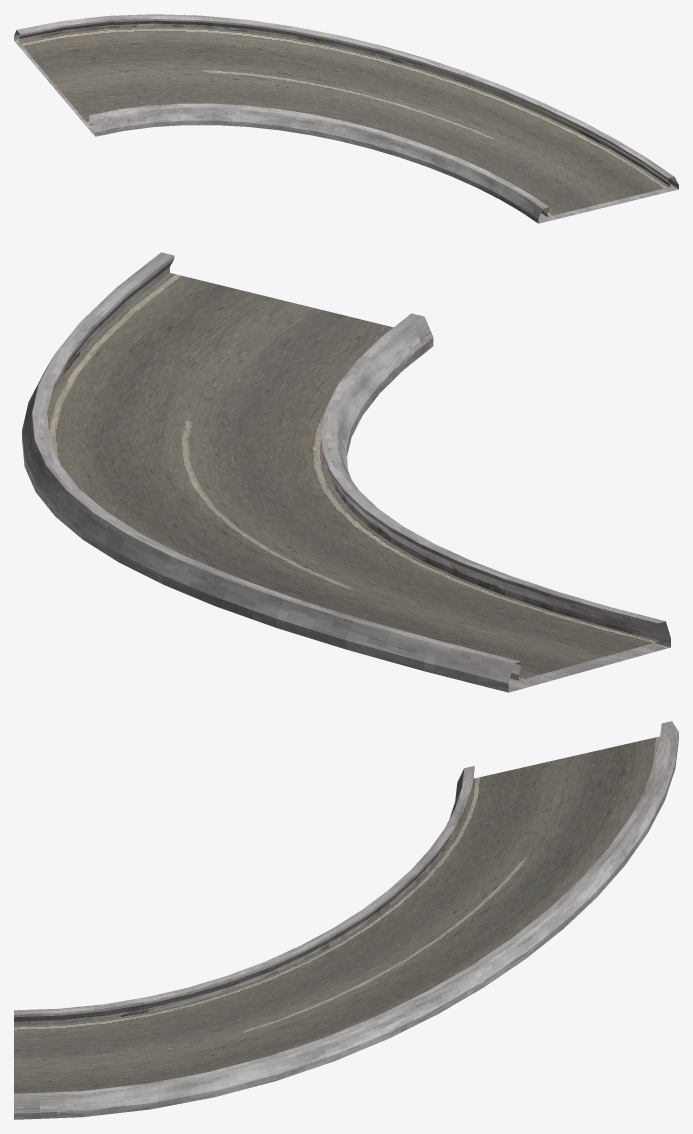
Rendered from turn-left3x3.glb.
3 views of the same model, one above another, from view 1: azimuth 30°, elevation 25°; view 2: azimuth 150°, elevation 25°; view 3: azimuth 270°, elevation 25° (orthographic). The views are drawn at different scales.
Parts seen in each view (by area): view 1: road-Turn-Flat-HalfBankedLeft-Up1-Left-Size3; view 2: road-Turn-Flat-HalfBankedLeft-Up1-Left-Size3; view 3: road-Turn-Flat-HalfBankedLeft-Up1-Left-Size3.
Part boxes in pixels (x1,y1,x2,y2): road-Turn-Flat-HalfBankedLeft-Up1-Left-Size3: (14,14,678,223); road-Turn-Flat-HalfBankedLeft-Up1-Left-Size3: (22,252,670,692); road-Turn-Flat-HalfBankedLeft-Up1-Left-Size3: (14,721,678,1119).
Bounding box in the file's own units: 3 × 0.5859 × 3.
2 materials, 2 textured.
